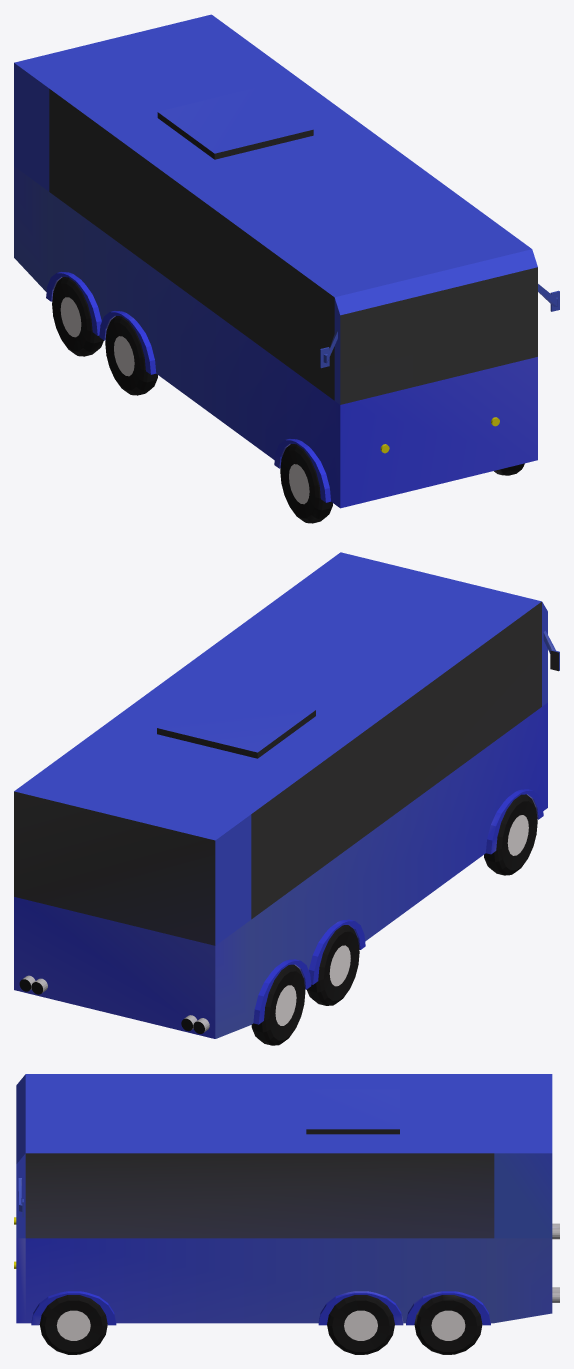
Rendered from onibus.fbx.
3 views of the same model, one above another, from view 1: azimuth 30°, elevation 25°; view 2: azimuth 150°, elevation 25°; view 3: azimuth 270°, elevation 25° (orthographic). The views are drawn at different scales.
Parts seen in each view (by area): view 1: onibus; view 2: onibus; view 3: onibus.
Part boxes in pixels (box(x1,y1,x2,y2)): onibus: box(14, 14, 559, 523); onibus: box(14, 552, 559, 1045); onibus: box(14, 1074, 559, 1354).
Bounding box in the file's own units: 254 × 254 × 612.
